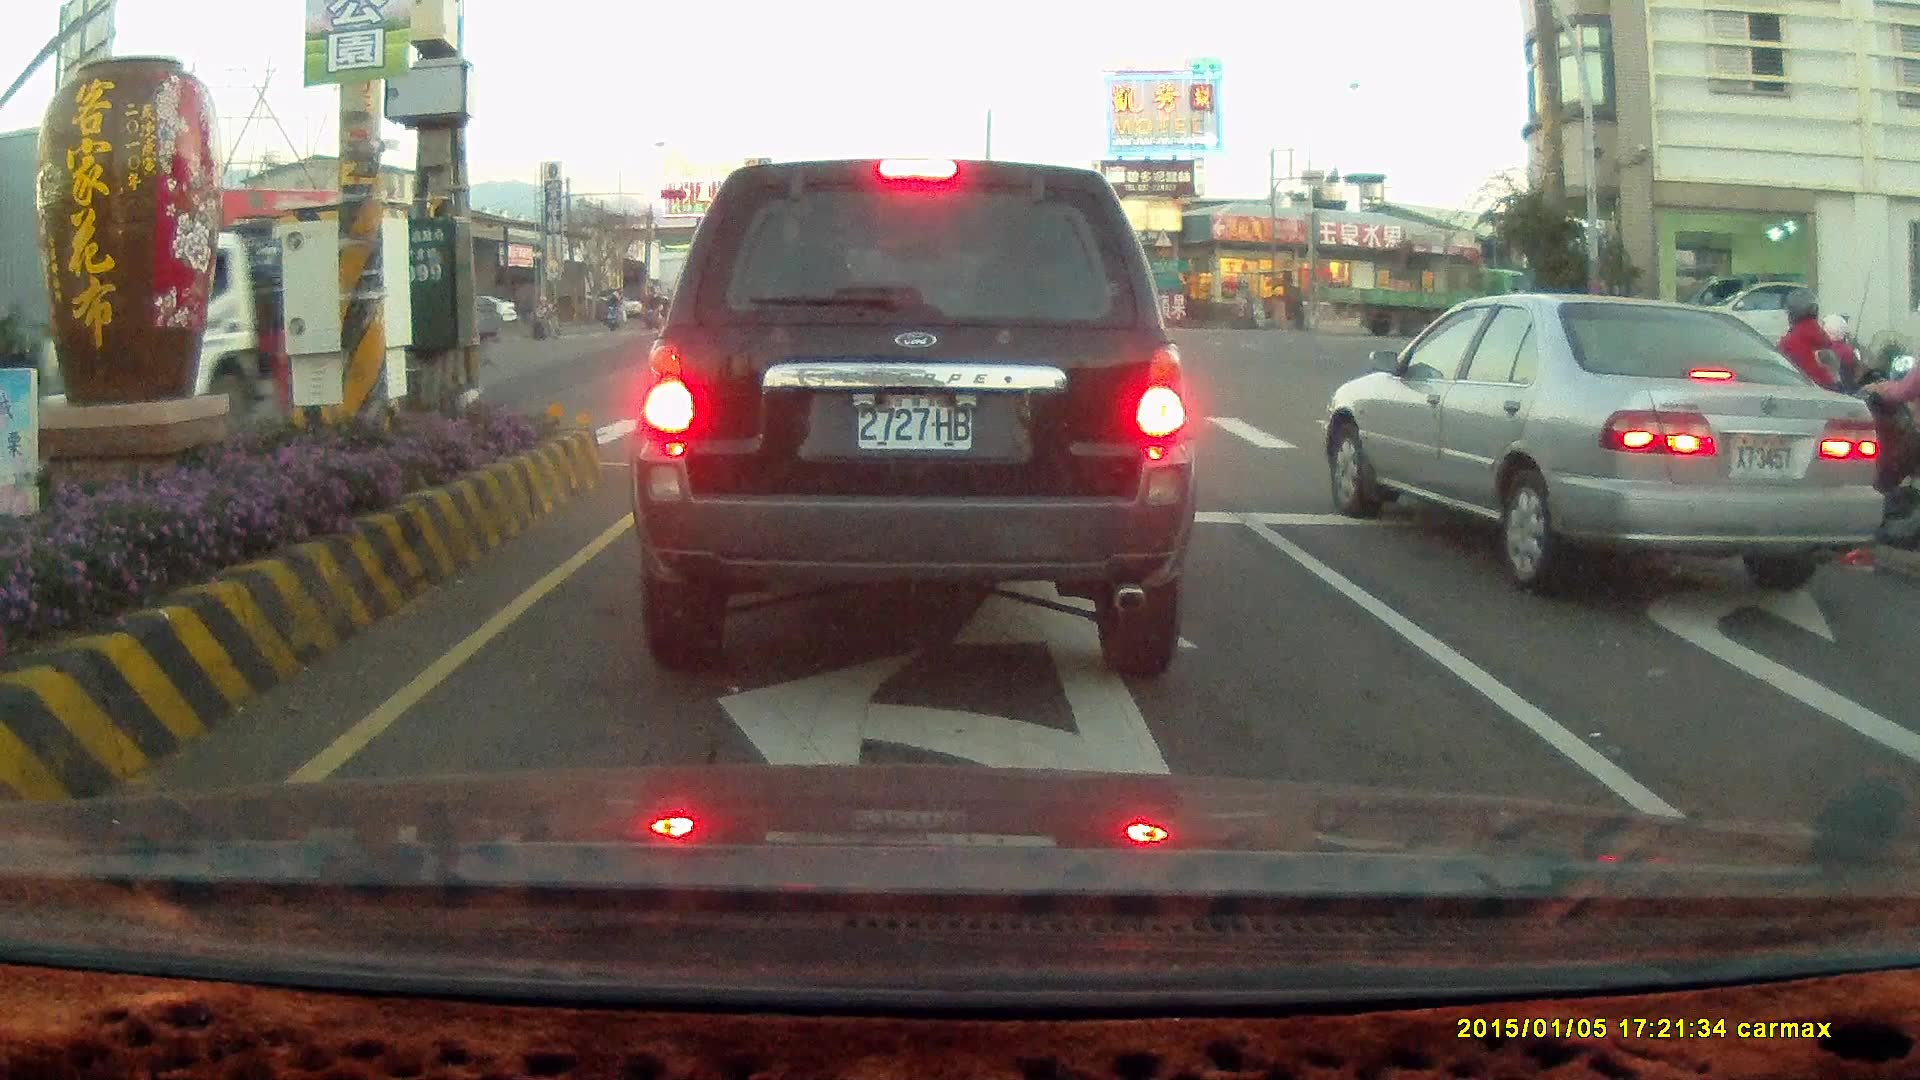rider: (1720, 287, 1860, 543), (1807, 343, 1920, 574), (529, 289, 562, 339), (602, 290, 623, 331), (646, 292, 667, 329)
vehicle: (628, 155, 1197, 681), (1321, 291, 1887, 600), (1337, 295, 1883, 581), (36, 215, 507, 425), (1656, 276, 1861, 372), (1668, 275, 1823, 373), (1896, 493, 1920, 836)
